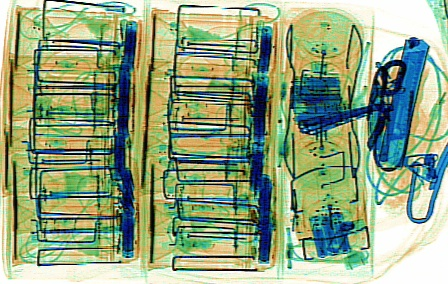knife: (377, 36, 429, 170)
